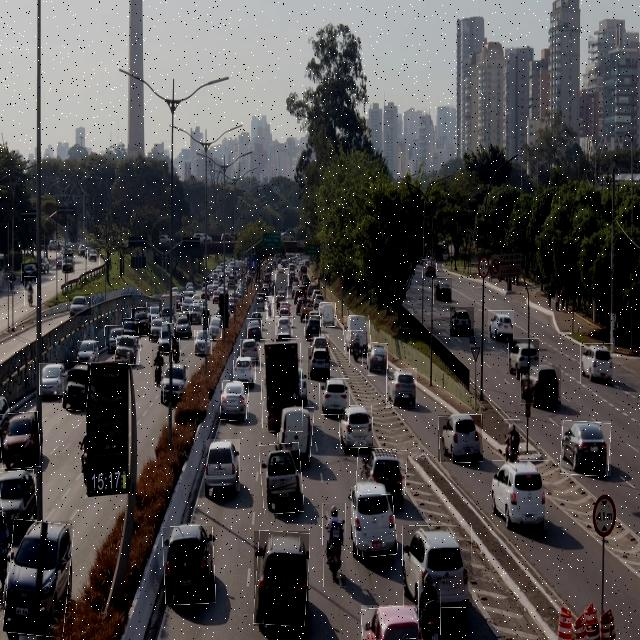Car: (6, 521, 72, 636), (403, 525, 472, 608), (254, 531, 309, 626), (163, 526, 215, 604), (492, 460, 548, 531), (353, 484, 396, 557), (561, 421, 611, 476), (356, 448, 407, 495), (0, 412, 39, 468), (361, 605, 422, 640), (438, 415, 483, 462), (277, 406, 313, 461), (0, 470, 36, 522), (206, 439, 240, 492), (520, 366, 561, 406), (339, 406, 372, 448), (580, 343, 613, 384), (64, 361, 90, 411), (386, 368, 417, 408), (320, 378, 350, 415), (221, 381, 249, 420), (508, 338, 539, 373), (344, 316, 370, 354), (39, 363, 68, 395), (163, 362, 186, 402), (488, 310, 514, 343), (308, 347, 330, 380), (450, 307, 474, 337), (116, 335, 140, 365), (368, 343, 388, 376), (157, 324, 179, 352), (234, 357, 256, 383), (132, 308, 151, 336), (433, 277, 452, 304), (69, 294, 91, 316), (77, 341, 99, 362), (194, 330, 212, 354), (174, 314, 192, 338), (240, 339, 259, 361), (320, 302, 336, 327), (105, 325, 124, 346), (305, 315, 320, 338), (275, 316, 293, 335), (208, 316, 222, 340), (311, 334, 329, 352), (423, 259, 437, 281), (21, 263, 38, 281), (248, 318, 262, 339), (150, 318, 162, 342), (123, 319, 139, 336), (189, 303, 203, 322), (62, 254, 75, 274), (181, 292, 194, 312), (88, 248, 100, 266), (146, 302, 159, 318), (258, 293, 268, 312)
Motorcycle: (323, 503, 346, 587), (419, 574, 441, 640), (504, 419, 520, 468), (350, 330, 363, 367), (152, 346, 164, 386), (24, 276, 37, 307), (171, 334, 181, 364), (266, 296, 274, 321)
Truck: (261, 339, 303, 432), (261, 443, 303, 514), (274, 268, 289, 303)
